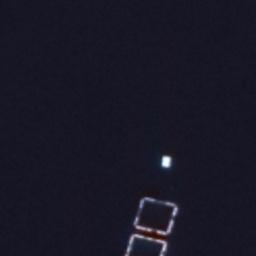square_solid: (130, 195, 180, 239), (123, 231, 171, 256)
